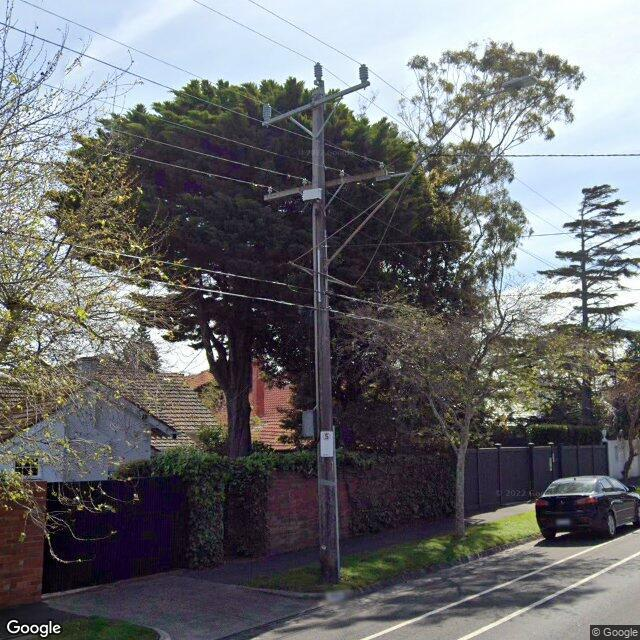HV-transmission: (260, 61, 371, 126)
crossarm: (262, 160, 394, 202), (261, 80, 370, 128)
timber-pole: (312, 86, 339, 582)
